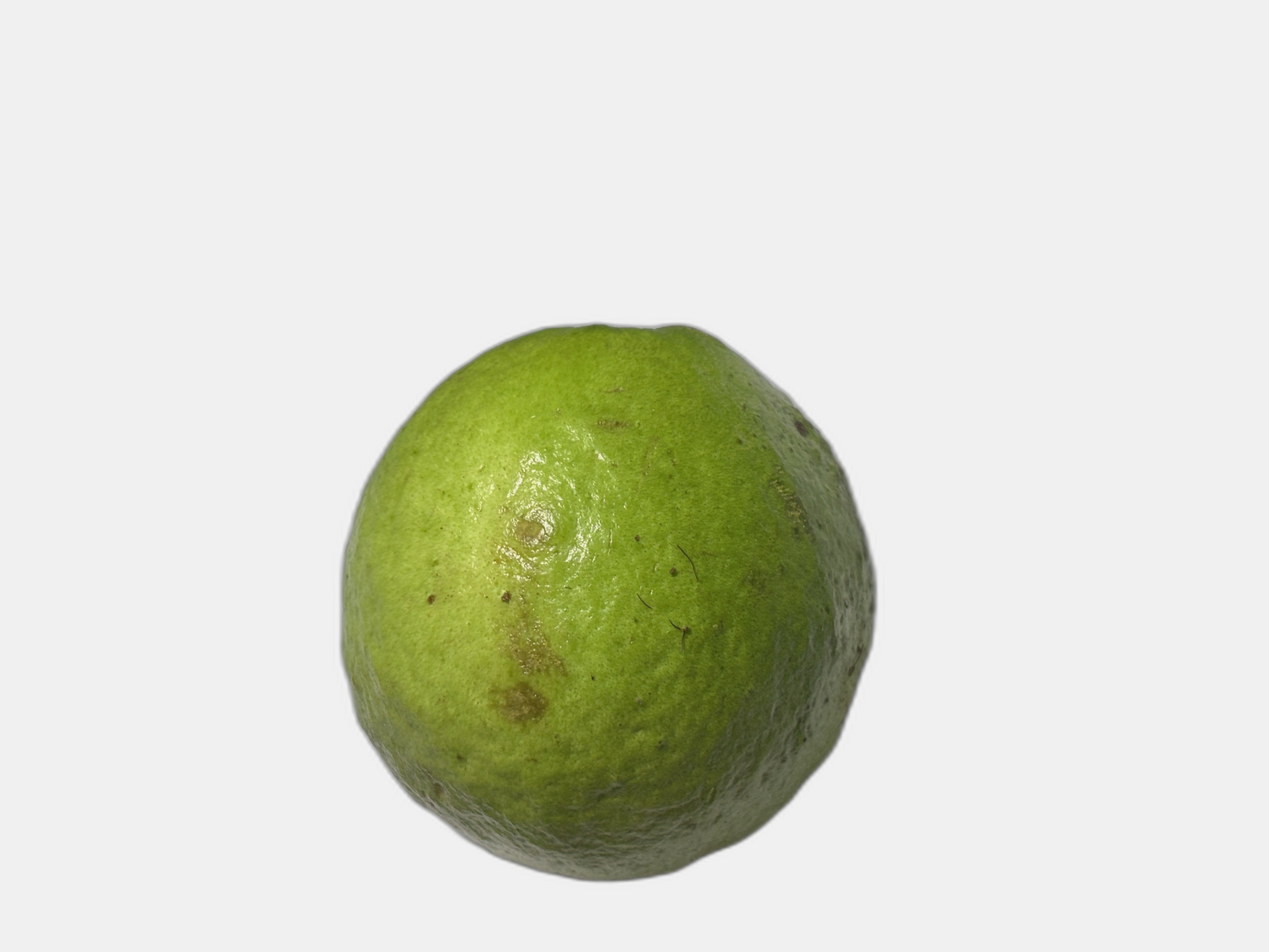guava: (261, 38, 1157, 804)
